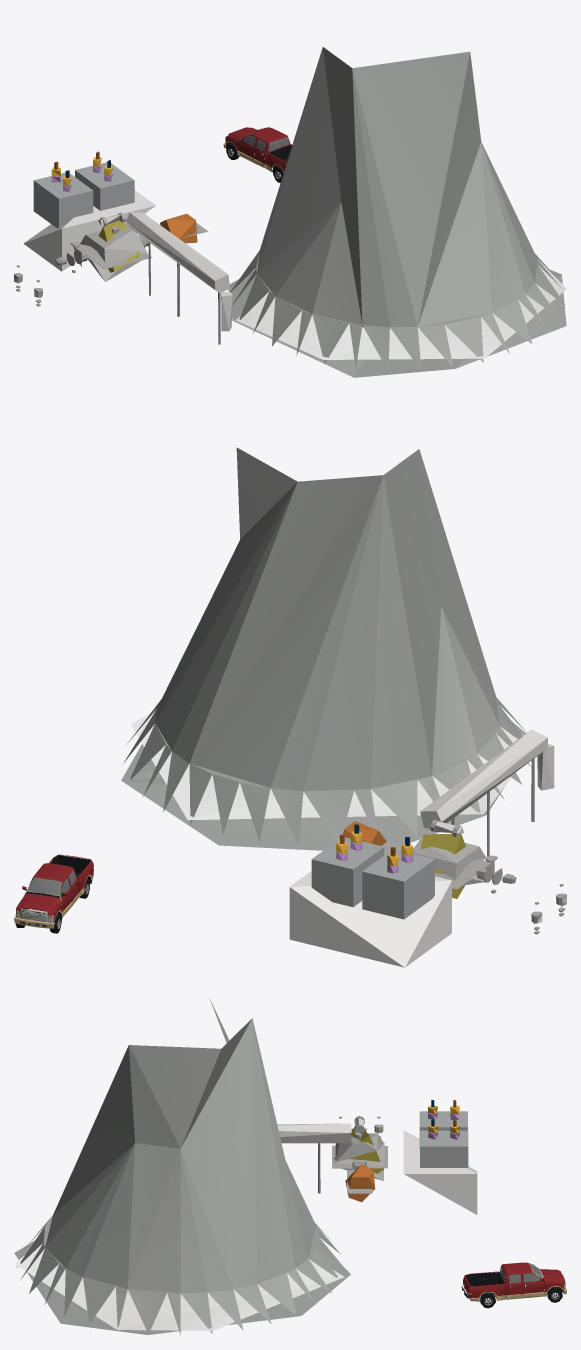
The model's file is centrale-ChUl2zV9.glb.
The picture shows the model from 3 angles, top to bottom: view 1: azimuth 30°, elevation 25°; view 2: azimuth 150°, elevation 25°; view 3: azimuth 270°, elevation 25°; orthographic projection. The views are drawn at different scales.
Visible parts, largest first — view 1: geo_105, geo_107, geo_161, geo_131, geo_177, geo_181, geo_194, geo_184, geo_179; view 2: geo_105, geo_107, geo_161, geo_177, geo_131, geo_181, geo_184, geo_197; view 3: geo_105, geo_107, geo_161, geo_131, geo_181, geo_177, geo_184, geo_194.
Part boxes in pixels (left/top/right/bottom): geo_105: left=228, top=47, right=566, bottom=377; geo_107: left=23, top=190, right=566, bottom=359; geo_161: left=33, top=162, right=134, bottom=228; geo_131: left=14, top=212, right=208, bottom=306; geo_177: left=98, top=212, right=232, bottom=331; geo_181: left=225, top=127, right=291, bottom=171; geo_194: left=160, top=213, right=197, bottom=243; geo_184: left=225, top=135, right=291, bottom=182; geo_179: left=148, top=242, right=220, bottom=344; geo_105: left=121, top=447, right=531, bottom=850; geo_107: left=130, top=710, right=523, bottom=967; geo_161: left=311, top=837, right=434, bottom=919; geo_177: left=420, top=729, right=554, bottom=833; geo_131: left=16, top=819, right=566, bottom=934; geo_181: left=15, top=854, right=93, bottom=922; geo_184: left=15, top=855, right=91, bottom=933; geo_197: left=420, top=834, right=465, bottom=898; geo_105: left=14, top=997, right=350, bottom=1335; geo_107: left=14, top=1130, right=477, bottom=1330; geo_161: left=419, top=1111, right=468, bottom=1168; geo_131: left=332, top=1116, right=565, bottom=1289; geo_181: left=463, top=1262, right=565, bottom=1297; geo_177: left=277, top=1116, right=363, bottom=1143; geo_184: left=461, top=1264, right=563, bottom=1308; geo_194: left=345, top=1164, right=375, bottom=1202.
Size of the model in its own units: 27.81 by 16.53 by 32.78.
